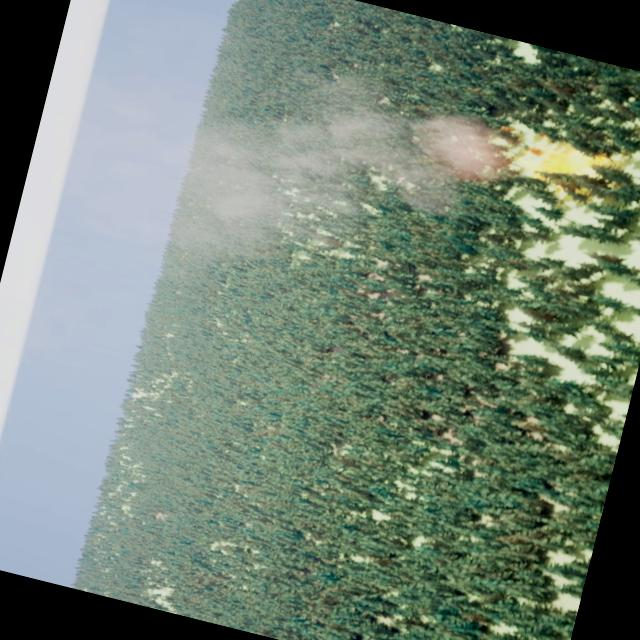fire: (524, 130, 618, 201)
smoke: (70, 15, 515, 332)
